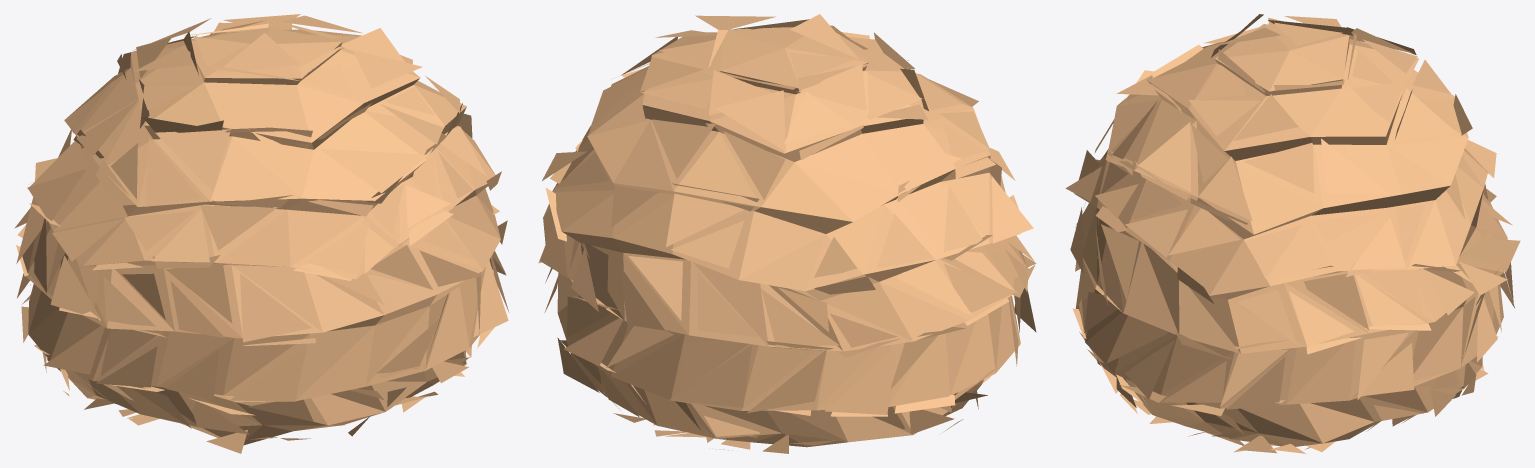
File: driedbushA-1.fbx
3 views of the same model, side by side, from view 1: azimuth 30°, elevation 25°; view 2: azimuth 150°, elevation 25°; view 3: azimuth 270°, elevation 25° (orthographic). The views are drawn at different scales.
Parts seen in each view (by area): view 1: Icosphere.001, Icosphere.002; view 2: Icosphere.001, Icosphere.002; view 3: Icosphere.001, Icosphere.002.
Part boxes in pixels (box(x1,y1,x2,y2)): Icosphere.001: box(20, 27, 500, 444); Icosphere.002: box(14, 14, 509, 453); Icosphere.001: box(552, 27, 1028, 447); Icosphere.002: box(538, 14, 1036, 453); Icosphere.001: box(1074, 24, 1507, 446); Icosphere.002: box(1065, 14, 1520, 453).
Bounding box in the file's own units: 241 × 188 × 218.
